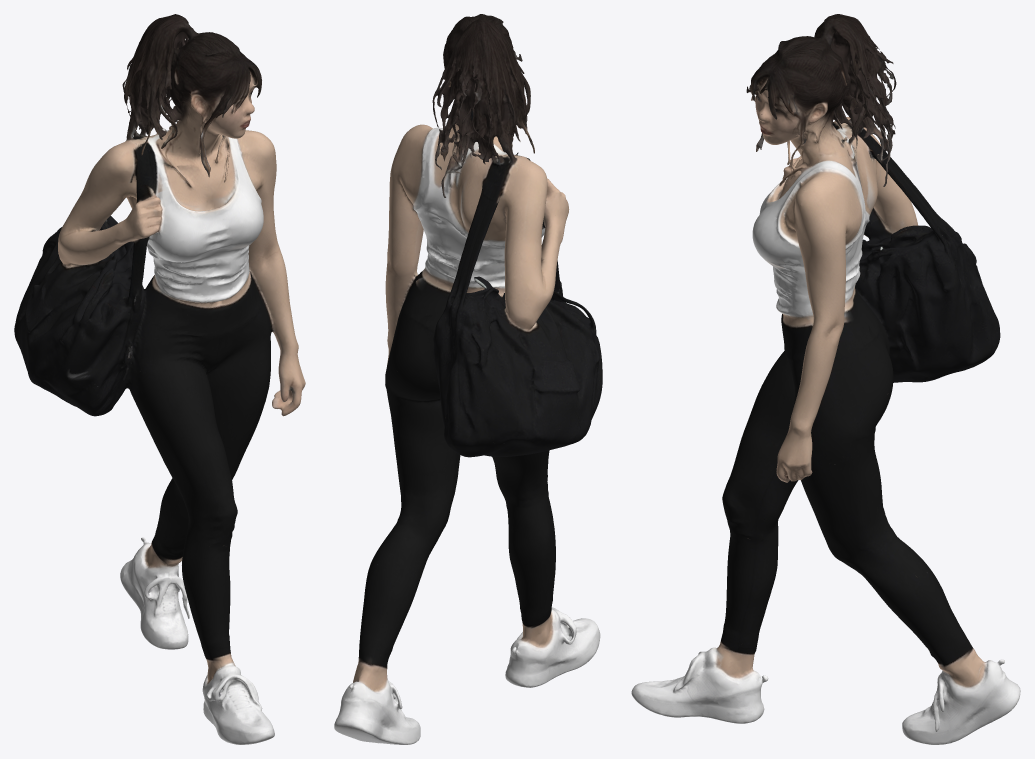
File: sara.glb
3 renders of one model, left to right at view 1: azimuth 30°, elevation 25°; view 2: azimuth 150°, elevation 25°; view 3: azimuth 270°, elevation 25°, orthographic. The views are drawn at different scales.
Size of the model in its own units: 0.6841 by 1.9 by 0.9542.
1 material, 1 textured.
